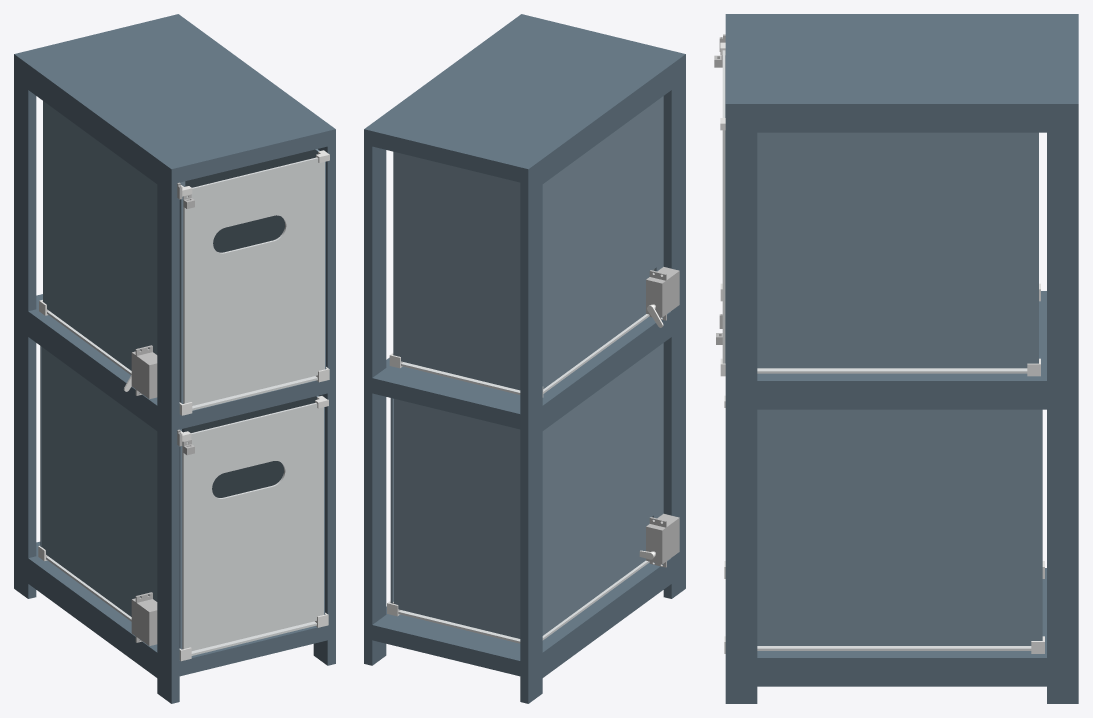
File: tool-shelf.glb
3 renders of one model, left to right at view 1: azimuth 30°, elevation 25°; view 2: azimuth 150°, elevation 25°; view 3: azimuth 270°, elevation 25°, orthographic. The views are drawn at different scales.
Parts seen in each view (by area): view 1: Body1, Body3.002, Body3.003, Body2, Body2.001, Body2.002, Body2.003, Body1.004, Body1.003, Body1.002, Body1.001; view 2: Body1, Body3.001, Body3, Body2, Body2.001, Body1.003, Body1.004, Body1.002, Body1.001, Body2.003; view 3: Body1, Body2.003, Body2.002, Body1.001, Body1.002, Body3.002, Body3, Body3.001.
Part boxes in pixels (<box>): Body1: <box>14,14,335,703</box>; Body3.002: <box>183,157,324,405</box>; Body3.003: <box>182,403,323,650</box>; Body2: <box>43,101,183,403</box>; Body2.001: <box>42,347,182,649</box>; Body2.002: <box>185,149,325,369</box>; Body2.003: <box>184,396,324,614</box>; Body1.004: <box>131,345,157,399</box>; Body1.003: <box>131,592,157,645</box>; Body1.002: <box>46,556,316,655</box>; Body1.001: <box>47,311,317,410</box>; Body1: <box>364,14,685,703</box>; Body3.001: <box>394,399,520,638</box>; Body3: <box>394,152,520,390</box>; Body2: <box>542,96,663,388</box>; Body2.001: <box>542,343,663,635</box>; Body1.003: <box>646,513,679,567</box>; Body1.004: <box>646,267,679,320</box>; Body1.002: <box>398,560,649,643</box>; Body1.001: <box>401,314,649,394</box>; Body2.003: <box>390,398,393,603</box>; Body1: <box>725,14,1078,703</box>; Body2.003: <box>757,409,1039,645</box>; Body2.002: <box>725,130,1036,368</box>; Body1.001: <box>757,368,1027,373</box>; Body1.002: <box>757,646,1031,650</box>; Body3.002: <box>722,50,725,363</box>; Body3: <box>1036,132,1038,363</box>; Body3.001: <box>1040,409,1042,640</box>.
Size of the model in its own units: 0.2171 by 0.628 by 0.3458.
